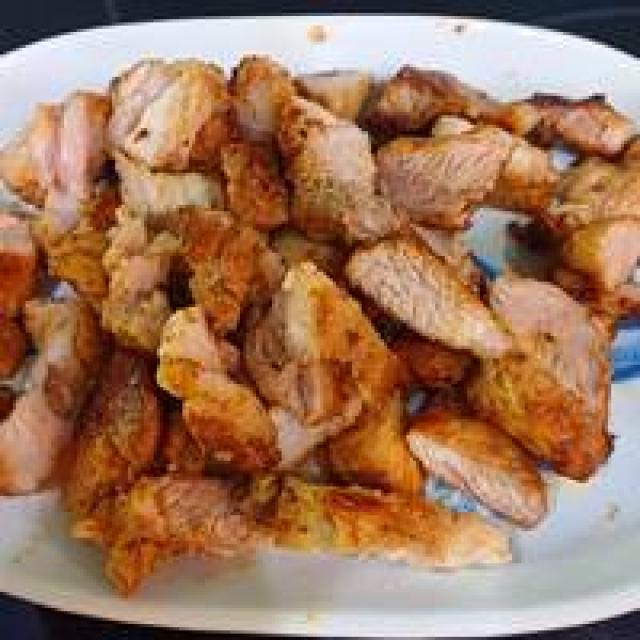thit chien: (0, 54, 637, 592)
